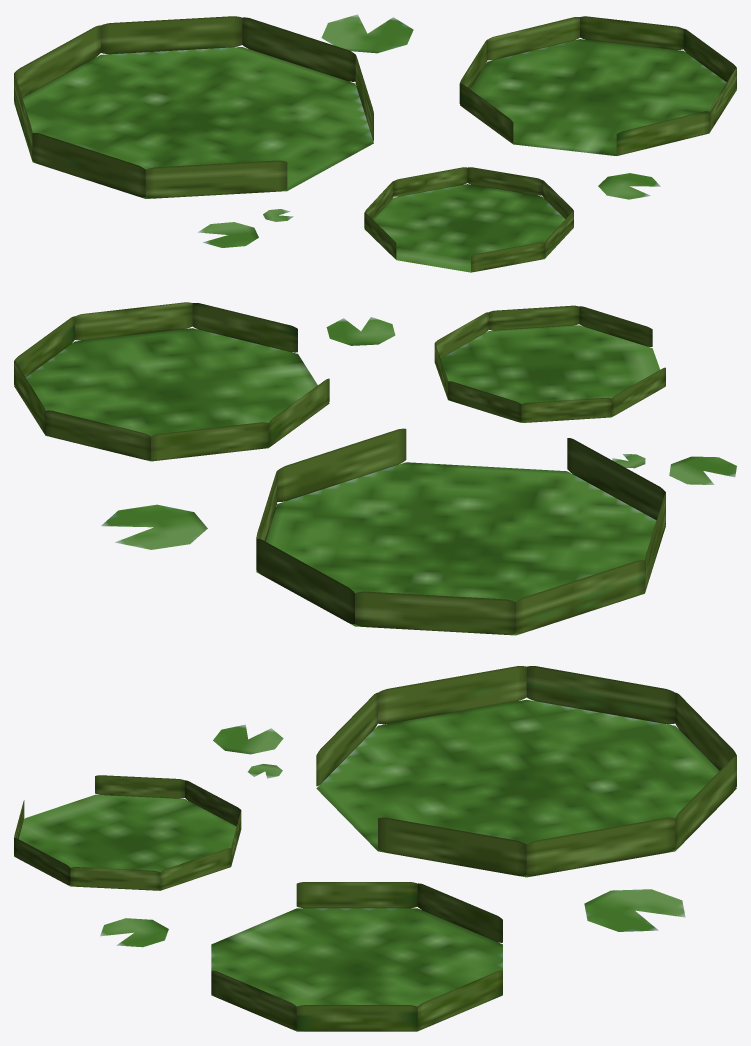
Rendered from Lily_Pads.fbx.
3 renders of one model, top to bottom at view 1: azimuth 30°, elevation 25°; view 2: azimuth 150°, elevation 25°; view 3: azimuth 270°, elevation 25°, orthographic. The views are drawn at different scales.
Parts seen in each view (by area): view 1: pad, pad_1, pad_2, pad_4, pad_3, pad_5; view 2: pad, pad_1, pad_2, pad_4, pad_5, pad_3; view 3: pad, pad_1, pad_2, pad_4, pad_3, pad_5.
Boxes of the visible parts, x1,y1,x2,y2 form: pad: (14,16,373,198); pad_1: (459,16,736,155); pad_2: (364,167,573,272); pad_4: (321,14,413,53); pad_3: (598,173,660,199); pad_5: (197,222,258,247); pad: (256,428,665,635); pad_1: (14,302,329,461); pad_2: (434,305,665,422); pad_4: (101,504,207,549); pad_5: (669,456,736,484); pad_3: (326,317,395,345); pad: (316,666,736,877); pad_1: (211,882,502,1031); pad_2: (14,775,241,890); pad_4: (584,889,685,931); pad_3: (100,918,168,947); pad_5: (213,724,283,754).
Bounding box in the file's own units: 18.94 × 0.9375 × 17.44.
1 material, 1 textured.
